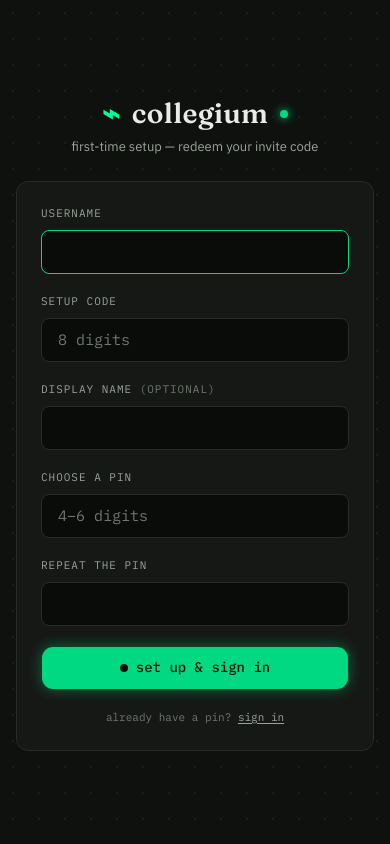
FirstLoginScreen › blocks submit when the pins don't match
This screenshot has width=390, height=844.
Type "newbie" into the field labelled "username" at (195, 252), box [41,230,349,274]
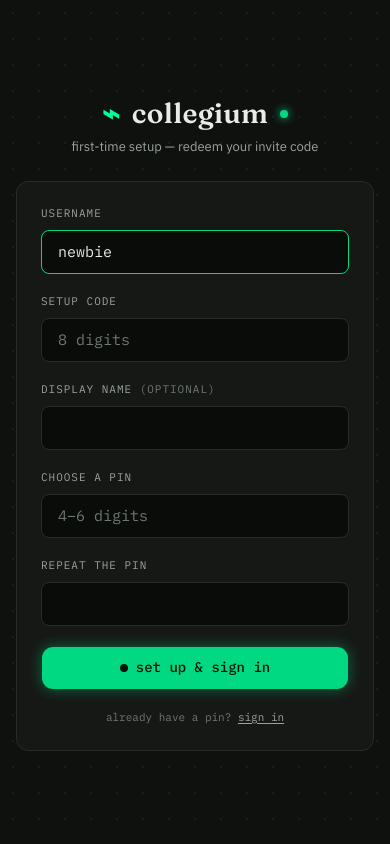
Type "12345678" into the field labelled "setup code" at (195, 340), box [41,318,349,362]
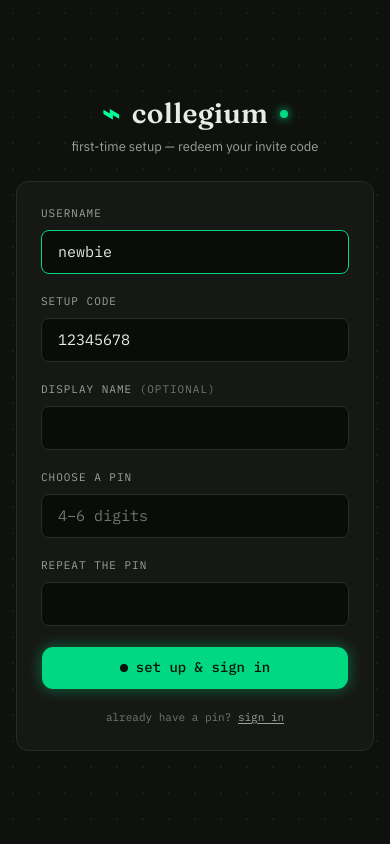
Type "4242" into the password field labelled "choose a pin" at (195, 516), box [41,494,349,538]
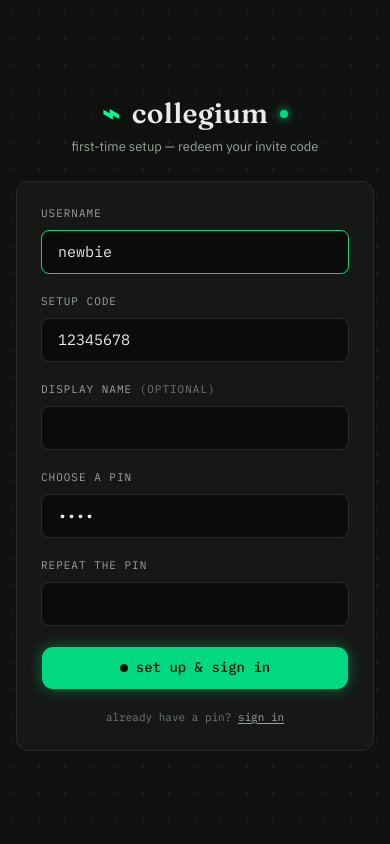
Type "9999" into the password field labelled "repeat the pin" at (195, 604), box [41,582,349,626]
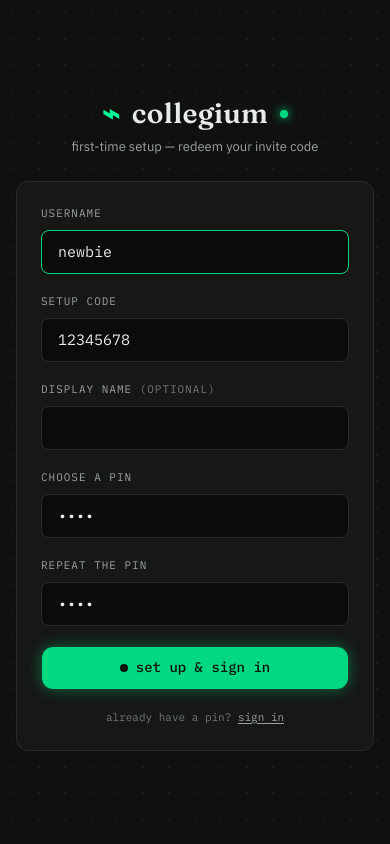
Click the button "set up & sign in" at (195, 668), box [41,646,349,690]
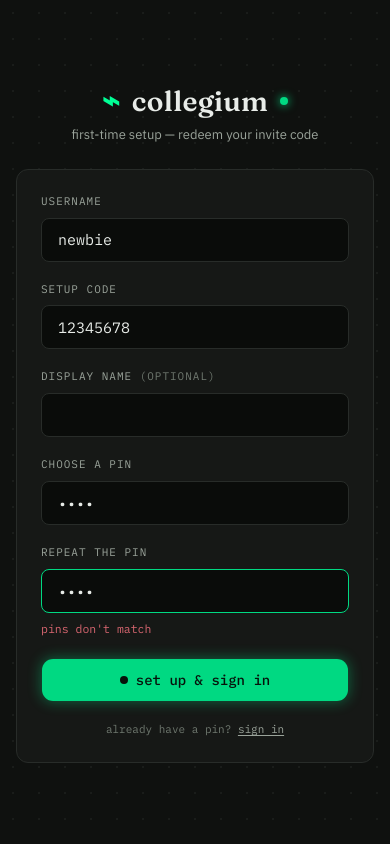
Now the text "pins don't match" is shown, box [41,621,151,636]
